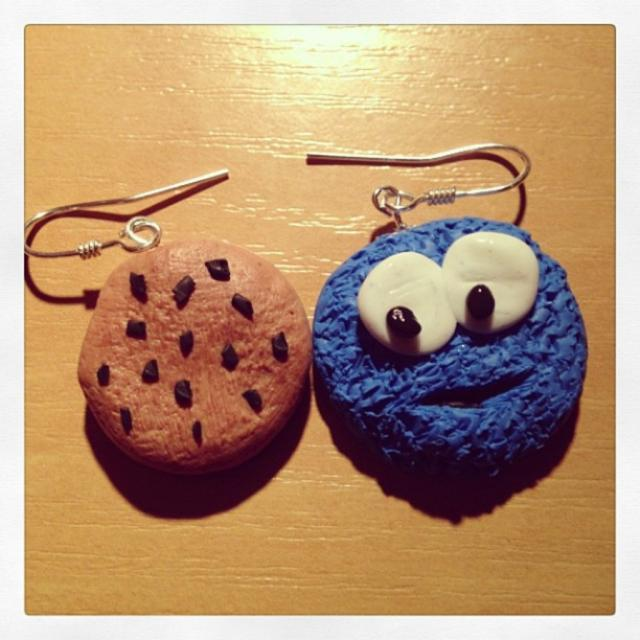Cookie: (311, 213, 592, 480), (77, 233, 315, 473)
